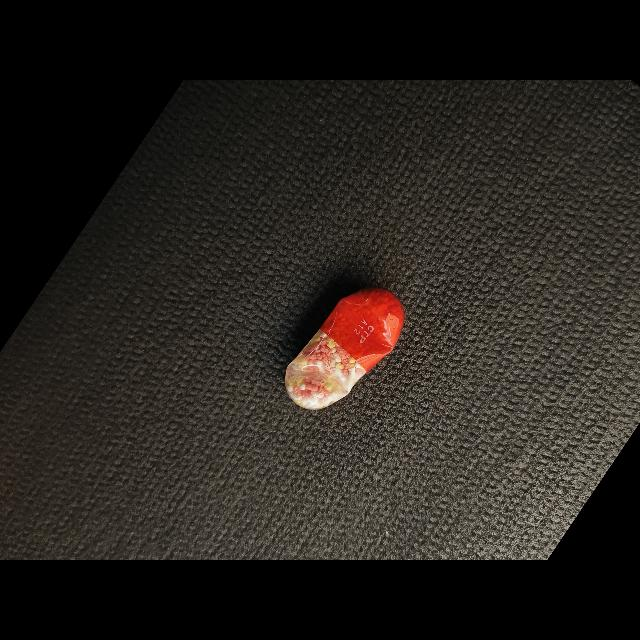Defective Capsule: (285, 288, 404, 410)
